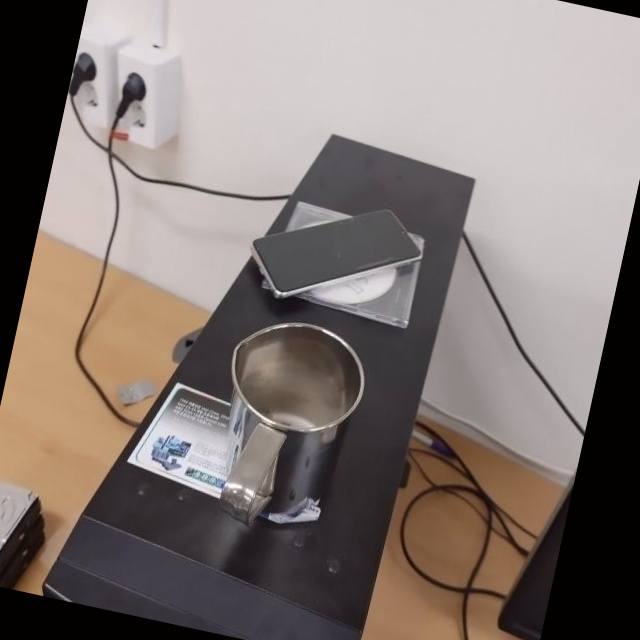cup: (199, 308, 377, 544)
phone: (236, 180, 434, 329)
